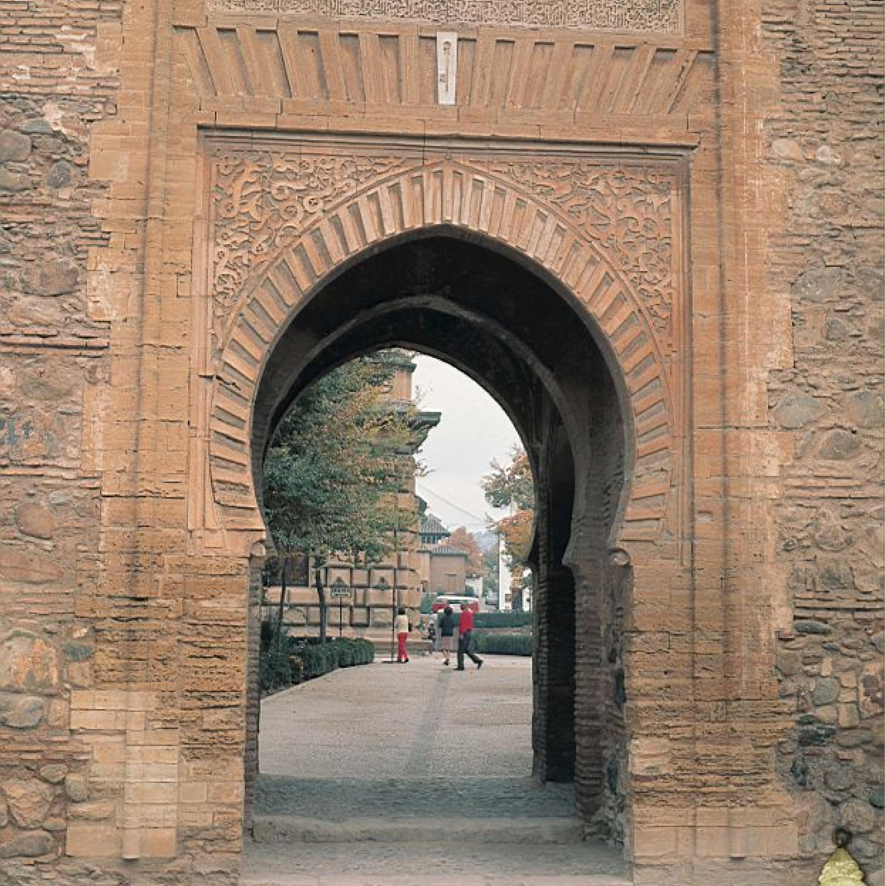arco-herradura: (234, 209, 648, 587)
dintel-adovelado: (168, 19, 699, 136)
